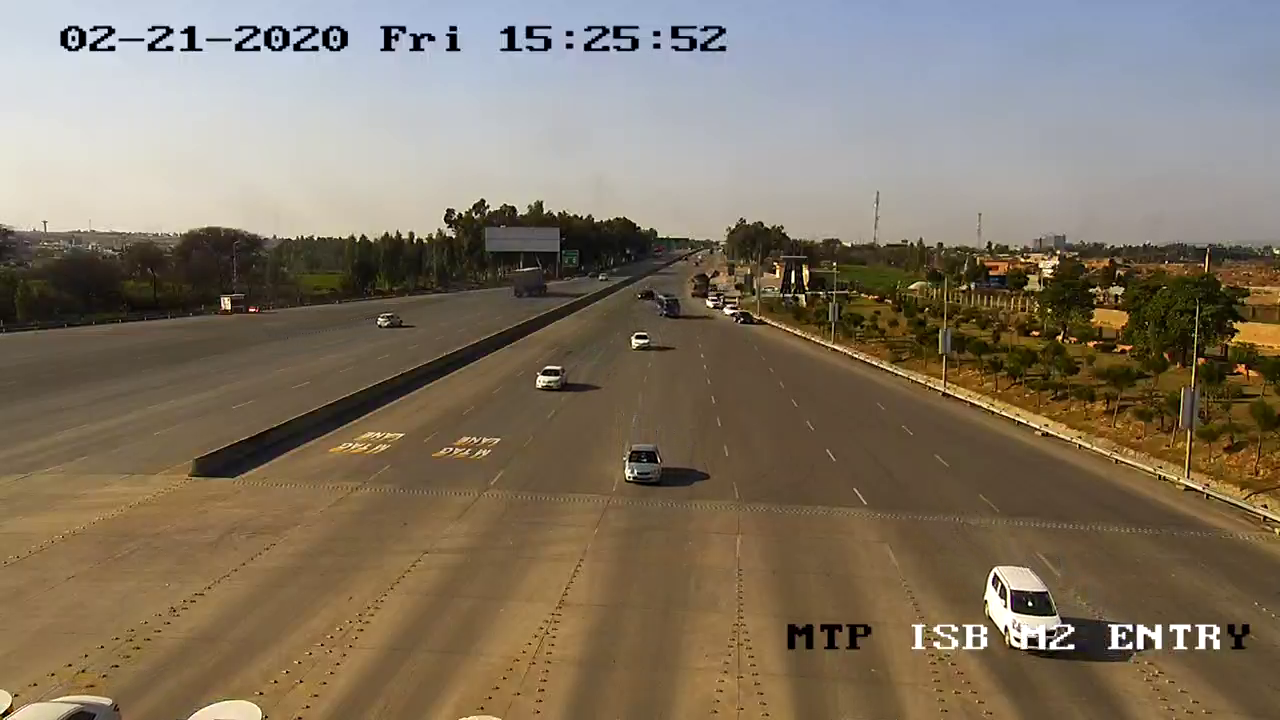f1: (614, 434, 671, 490)
